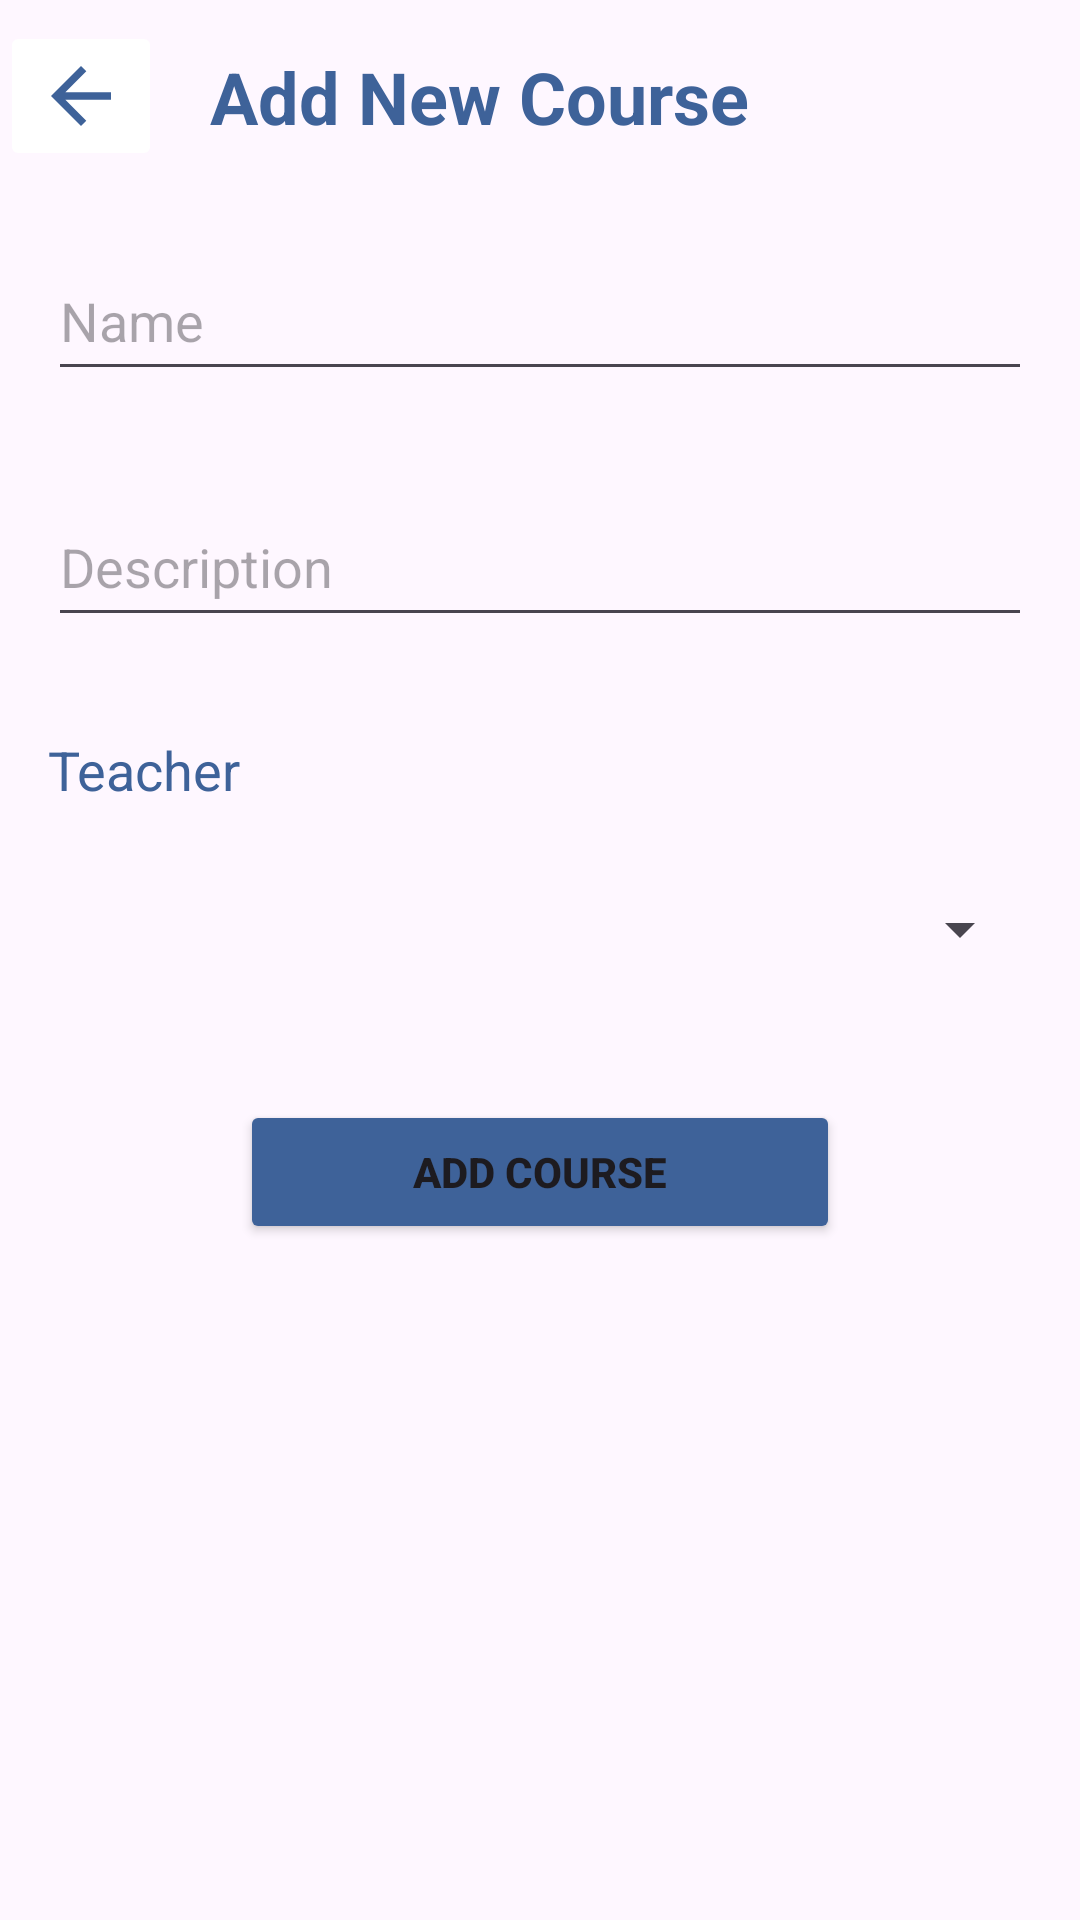

Icons on this 1080px x 1920px Android screen, each with its box as (x1, y1, x2, y2):
Back: (51, 66, 111, 126)
